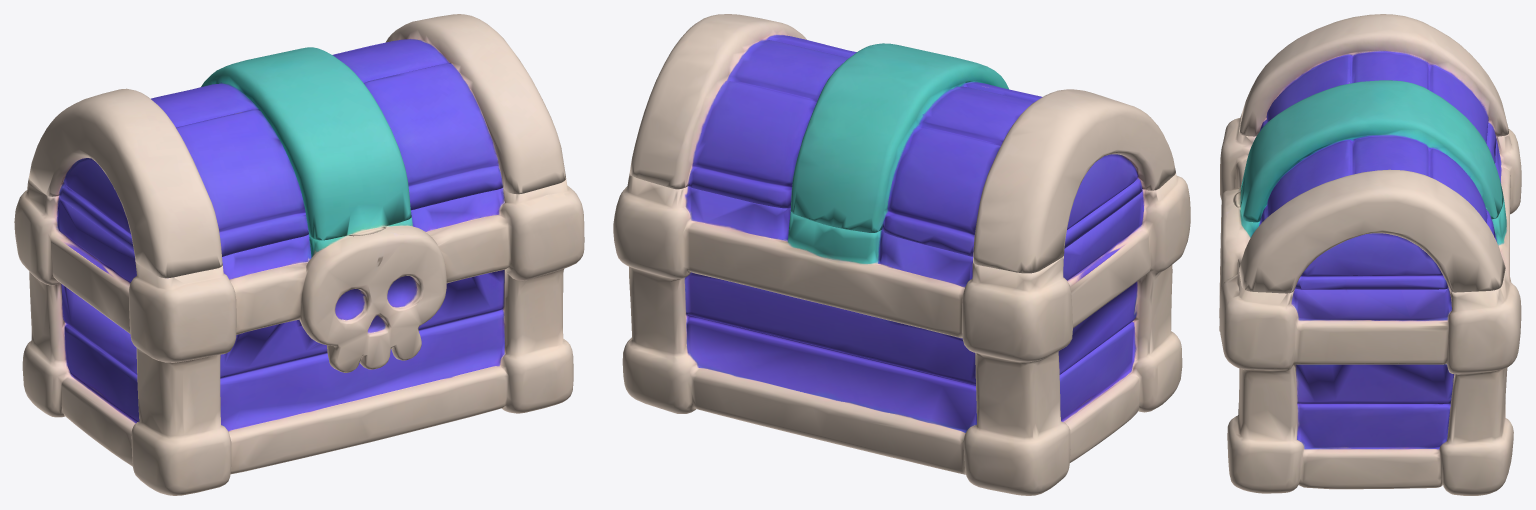
Rendered from chest.glb.
The picture shows the model from 3 angles, left to right: view 1: azimuth 30°, elevation 25°; view 2: azimuth 150°, elevation 25°; view 3: azimuth 270°, elevation 25°; orthographic projection. The views are drawn at different scales.
Visible parts, largest first — view 1: chest, lid; view 2: chest, lid; view 3: lid, chest.
Part boxes in pixels (<box>): chest: <box>14,178,584,495</box>; lid: <box>29,14,565,278</box>; chest: <box>613,173,1190,495</box>; lid: <box>629,14,1175,273</box>; lid: <box>1233,14,1508,293</box>; chest: <box>1219,113,1521,495</box>.
Size of the model in its own units: 3.26 by 2.48 by 2.16.
Materials: 3 (1 with a texture image).
